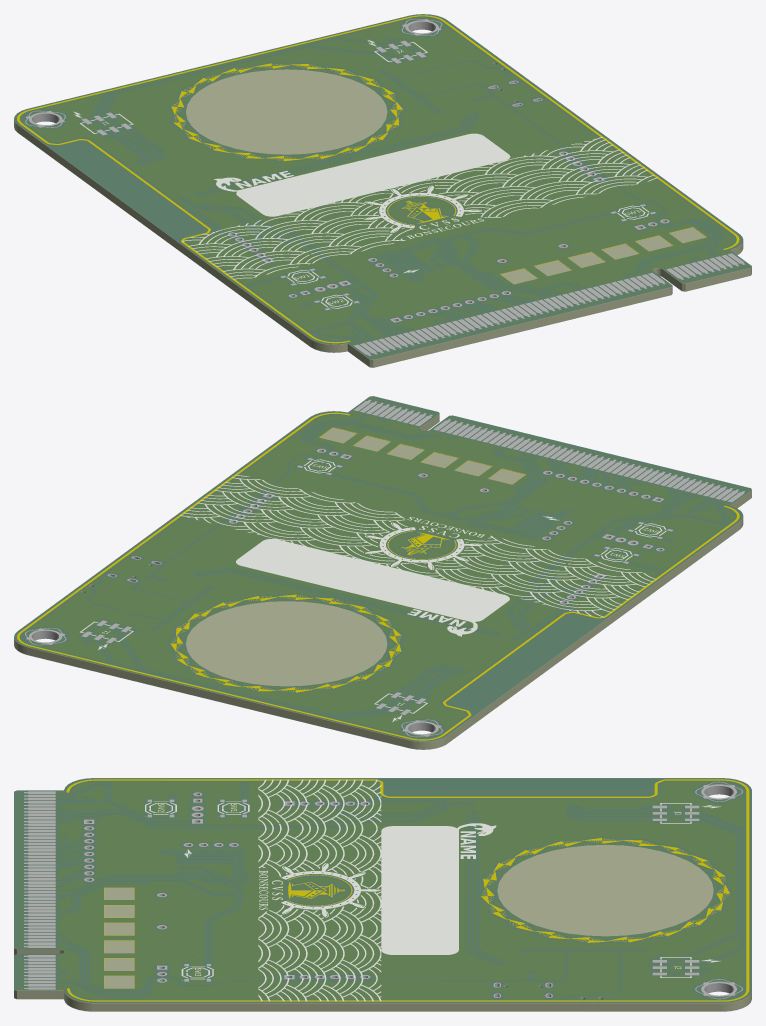
Rendered from northsec-2021-badge.glb.
3 views of the same model, one above another, from view 1: azimuth 30°, elevation 25°; view 2: azimuth 150°, elevation 25°; view 3: azimuth 270°, elevation 25° (orthographic). The views are drawn at different scales.
Visible parts, largest first — view 1: =>[0:1:1:7], =>[0:1:1:2], =>[0:1:1:9], =>[0:1:1:5]; view 2: =>[0:1:1:7], =>[0:1:1:2], =>[0:1:1:9], =>[0:1:1:5]; view 3: =>[0:1:1:7], =>[0:1:1:2], =>[0:1:1:9], =>[0:1:1:5].
Boxes of the visible parts, x1,y1,x2,y2 form: =>[0:1:1:7]: [14, 14, 751, 367]; =>[0:1:1:2]: [17, 15, 748, 357]; =>[0:1:1:9]: [14, 15, 751, 367]; =>[0:1:1:5]: [73, 40, 657, 308]; =>[0:1:1:7]: [14, 396, 751, 749]; =>[0:1:1:2]: [17, 398, 748, 740]; =>[0:1:1:9]: [14, 397, 751, 749]; =>[0:1:1:5]: [80, 459, 666, 721]; =>[0:1:1:7]: [14, 778, 751, 1011]; =>[0:1:1:2]: [20, 779, 749, 1001]; =>[0:1:1:9]: [14, 779, 751, 1011]; =>[0:1:1:5]: [145, 779, 720, 1011].
Bounding box in the file's own units: 0.089 × 0.00166 × 0.1234.
Materials: 4 (4 with a texture image).
